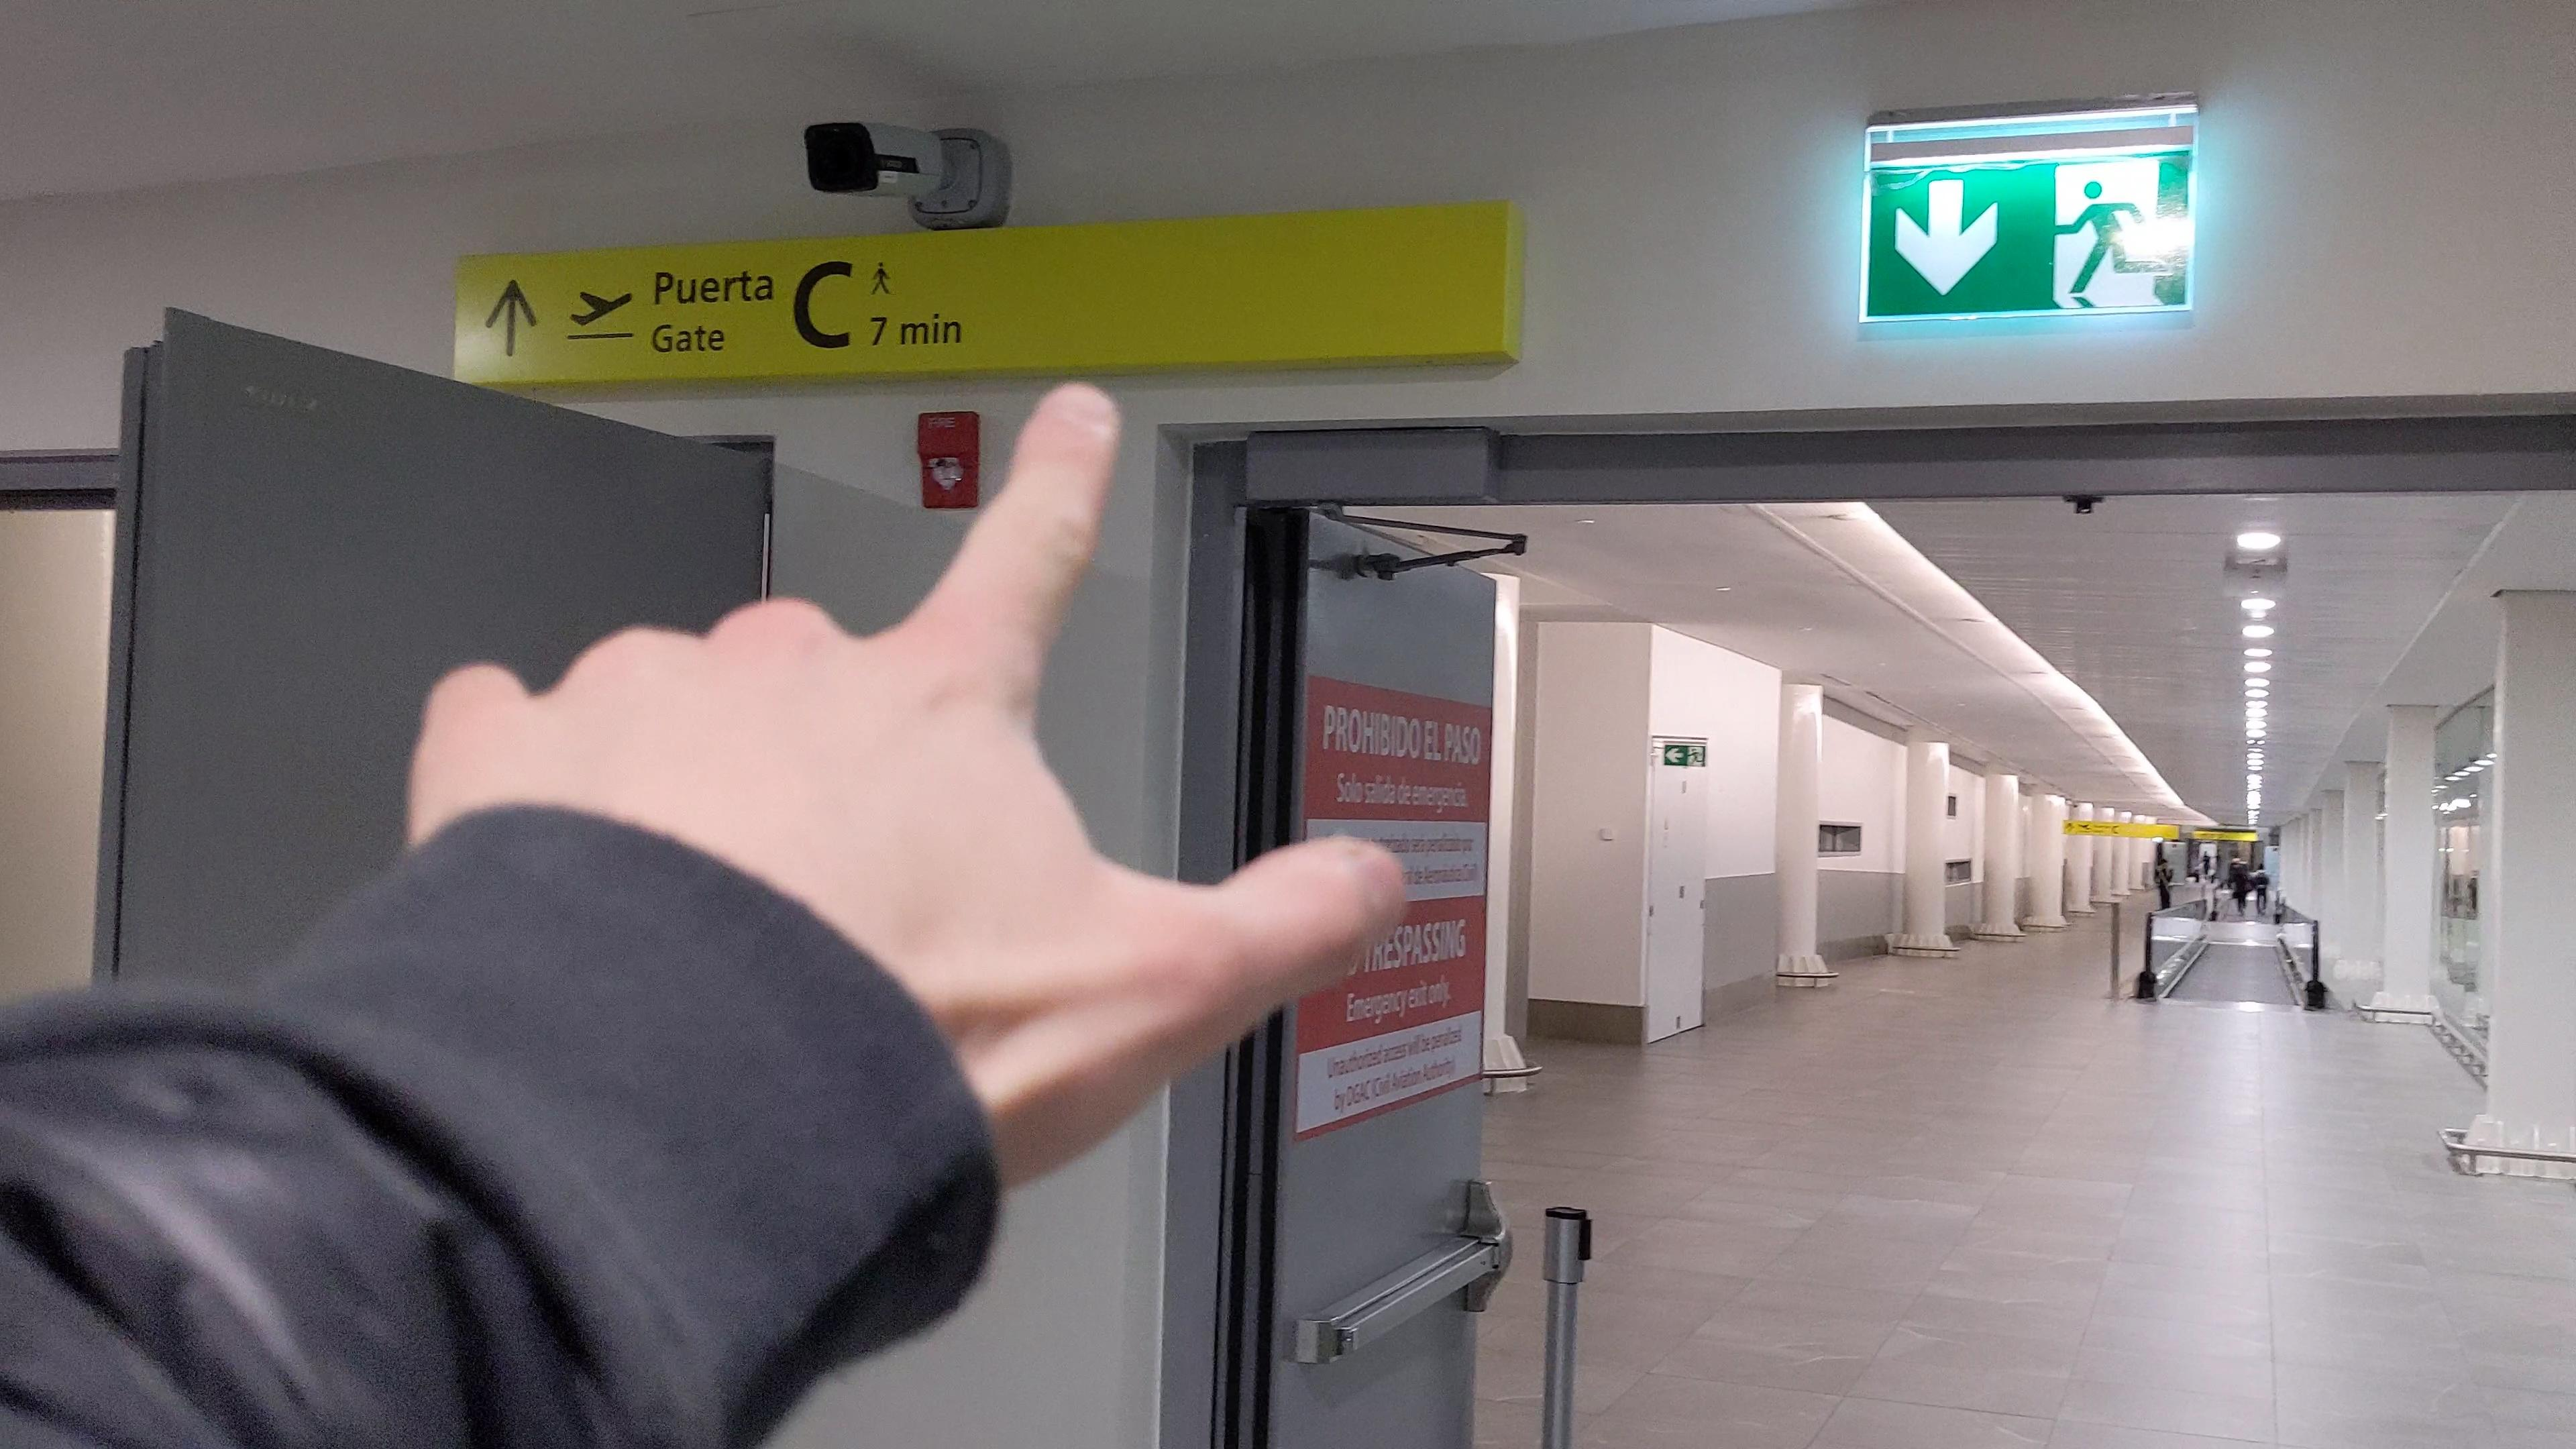airplane symbol: (568, 290, 635, 327), (2077, 823, 2093, 830)
emergency down arrow: (1890, 175, 2003, 299)
emergency exit: (2049, 157, 2174, 310), (1686, 747, 1704, 766)
emergency left arrow: (1665, 747, 1684, 764)
no trespassing: (1300, 667, 1497, 1145)
thin right arrow: (481, 278, 541, 357)
thin up arrow: (2065, 821, 2075, 833)
